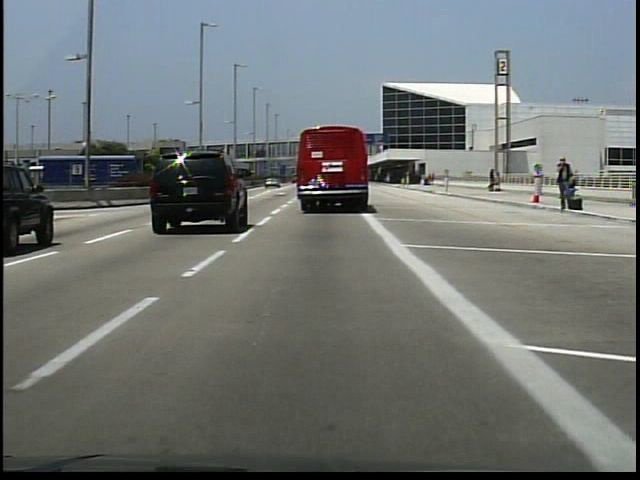person: (552, 153, 576, 216), (558, 171, 581, 204)
